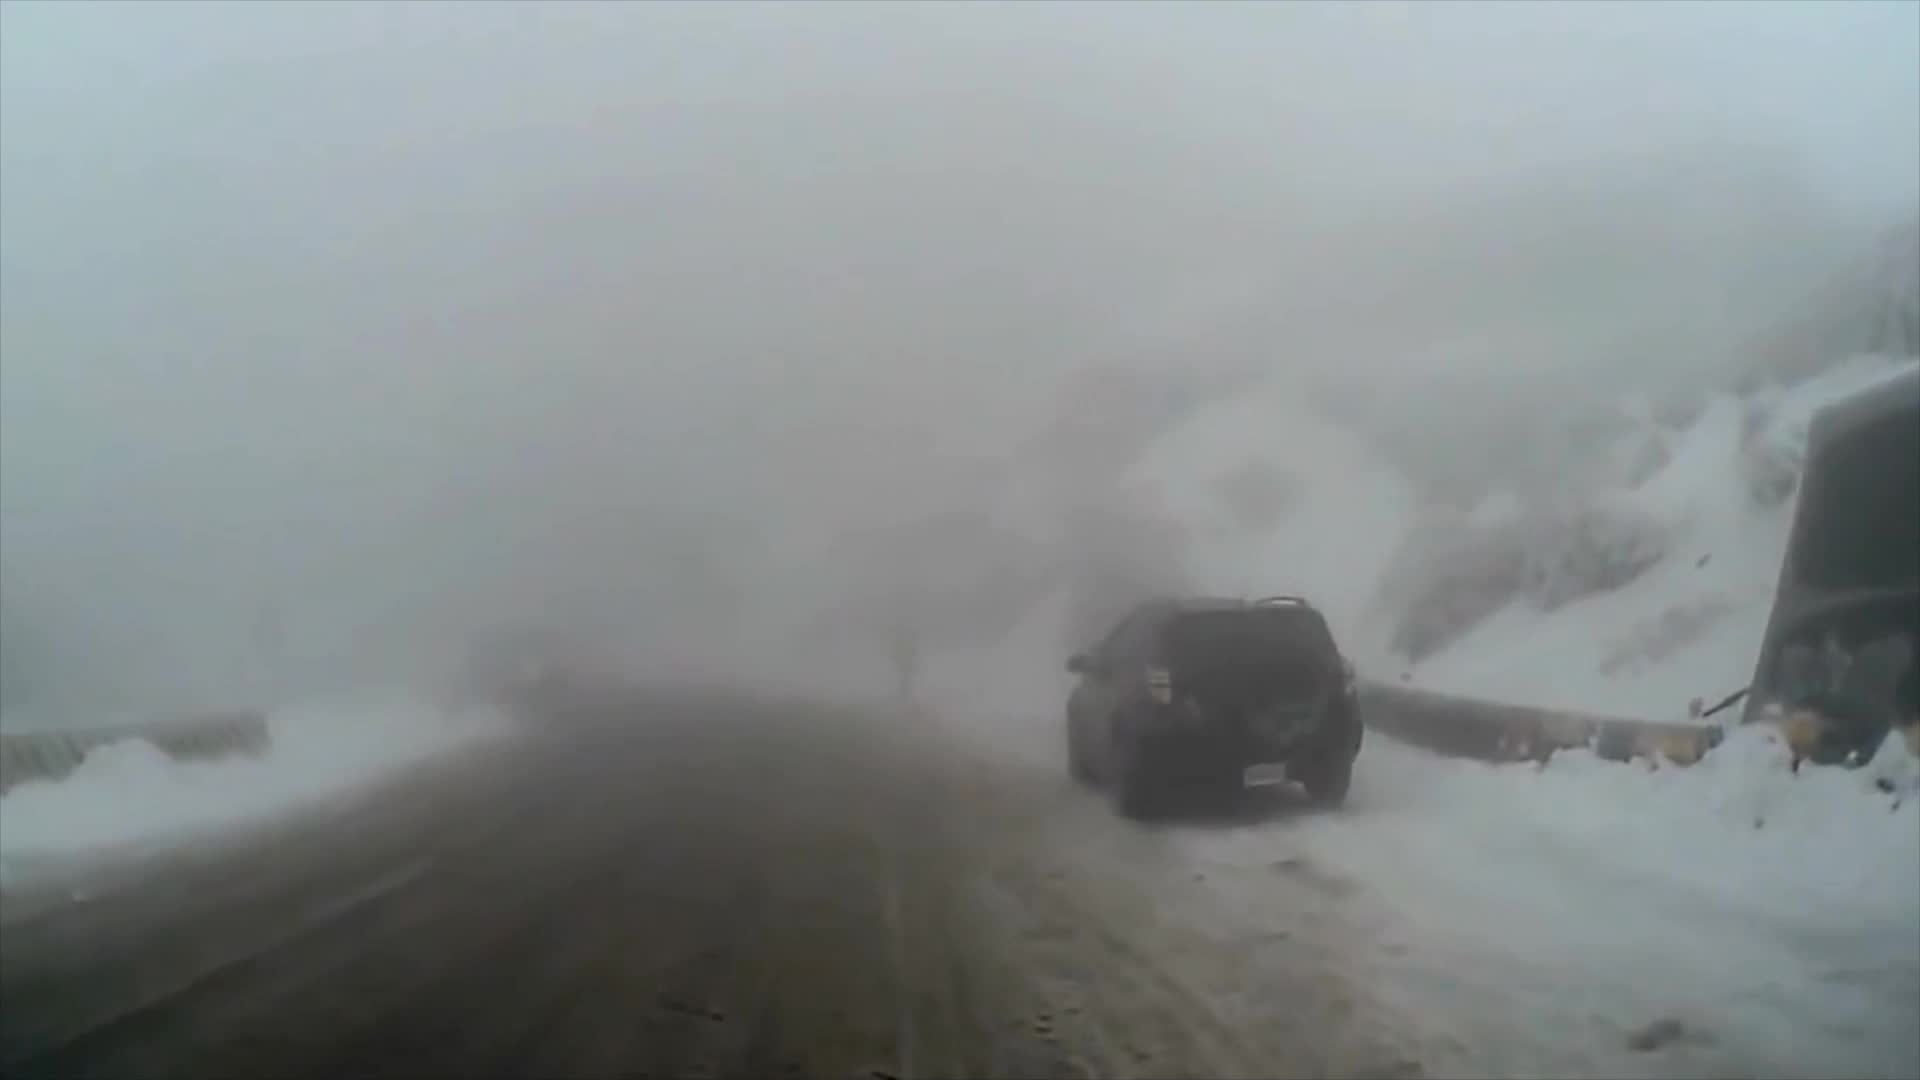vehicle: (1063, 593, 1365, 828)
